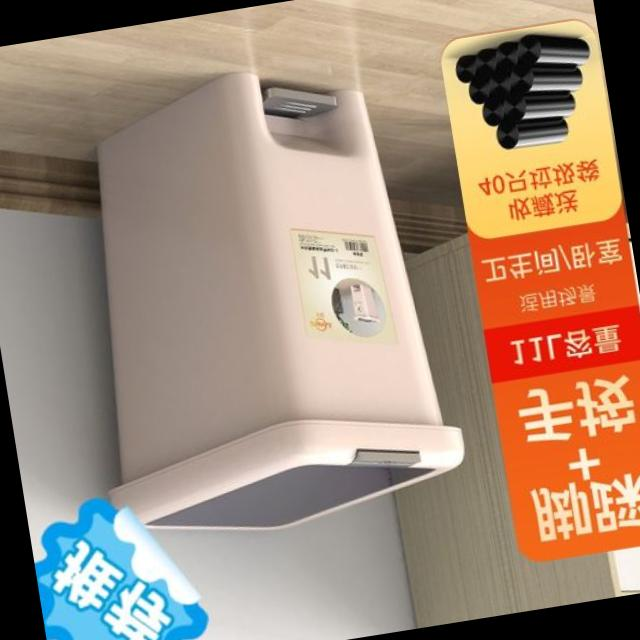dustbin: (43, 42, 477, 560)
